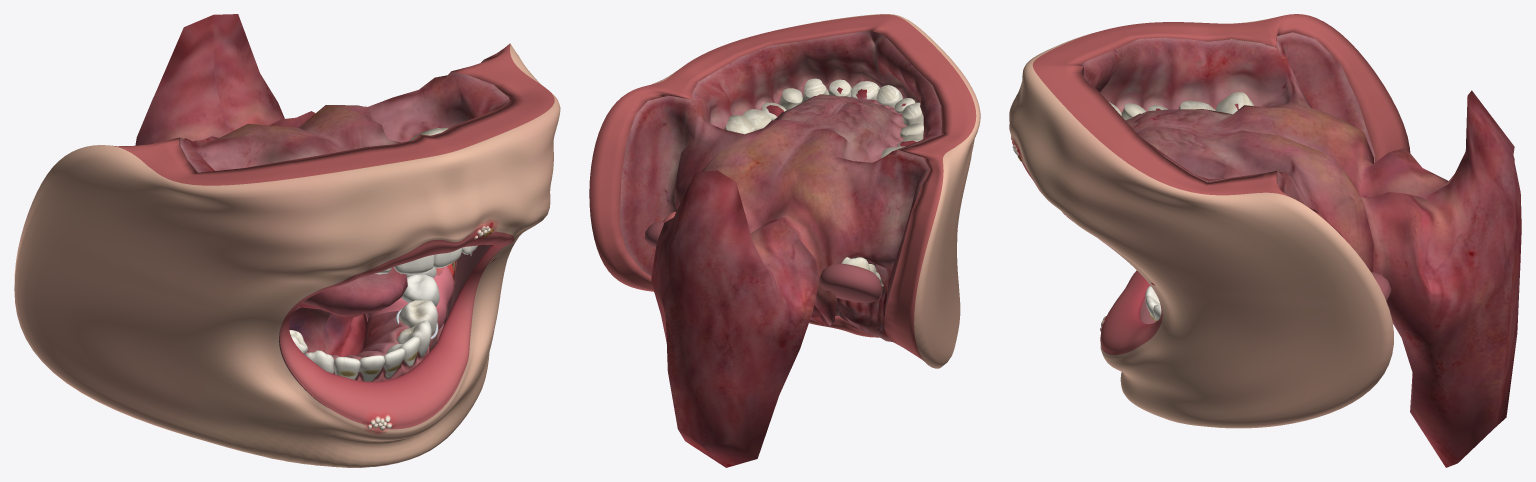
File: polost_rta.glb
3 views of the same model, side by side, from view 1: azimuth 30°, elevation 25°; view 2: azimuth 150°, elevation 25°; view 3: azimuth 270°, elevation 25° (orthographic). The views are drawn at different scales.
Parts seen in each view (by area): view 1: shcheka_prav, guba_verh, guba_niz, glotka, guba_niz_kayma, shcheka_lev, yazyk, desna_verh, guba_verh_kayma, protez, dno_rta, nebo (+3 smaller); view 2: glotka, shcheka_prav, shcheka_lev, desna_verh, guba_verh, nebo, desna_48, desna_niz, zub_11, guba_niz, zub_27, zub_26; view 3: shcheka_lev, glotka, guba_verh, shcheka_prav, desna_verh, guba_niz, nebo, guba_niz_kayma.
Boxes of the visible parts, x1=… form: shcheka_prav: x1=14, y1=123, x2=345, y2=383; guba_verh: x1=125, y1=56, x2=560, y2=284; guba_niz: x1=67, y1=308, x2=498, y2=467; glotka: x1=135, y1=14, x2=315, y2=145; guba_niz_kayma: x1=279, y1=269, x2=484, y2=429; shcheka_lev: x1=298, y1=43, x2=529, y2=321; yazyk: x1=289, y1=267, x2=407, y2=356; desna_verh: x1=180, y1=71, x2=509, y2=172; guba_verh_kayma: x1=285, y1=231, x2=514, y2=318; protez: x1=365, y1=266, x2=453, y2=339; dno_rta: x1=306, y1=311, x2=409, y2=361; nebo: x1=216, y1=112, x2=418, y2=170; glotka: x1=651, y1=170, x2=818, y2=467; shcheka_prav: x1=769, y1=124, x2=971, y2=368; shcheka_lev: x1=589, y1=84, x2=820, y2=290; desna_verh: x1=692, y1=30, x2=941, y2=150; guba_verh: x1=652, y1=14, x2=980, y2=159; nebo: x1=722, y1=87, x2=916, y2=162; desna_48: x1=819, y1=263, x2=881, y2=303; desna_niz: x1=835, y1=256, x2=891, y2=341; zub_11: x1=876, y1=85, x2=902, y2=107; guba_niz: x1=646, y1=290, x2=878, y2=337; zub_27: x1=724, y1=115, x2=754, y2=134; zub_26: x1=742, y1=109, x2=771, y2=130; shcheka_lev: x1=1085, y1=130, x2=1393, y2=417; glotka: x1=1352, y1=90, x2=1521, y2=467; guba_verh: x1=1009, y1=18, x2=1277, y2=231; shcheka_prav: x1=1212, y1=14, x2=1410, y2=182; desna_verh: x1=1080, y1=37, x2=1288, y2=182; guba_niz: x1=1100, y1=331, x2=1317, y2=428; nebo: x1=1125, y1=100, x2=1288, y2=179; guba_niz_kayma: x1=1100, y1=270, x2=1162, y2=354.
Bounding box in the file's own units: 0.1287 × 0.1149 × 0.1325.
Materials: 11 (2 with a texture image).
